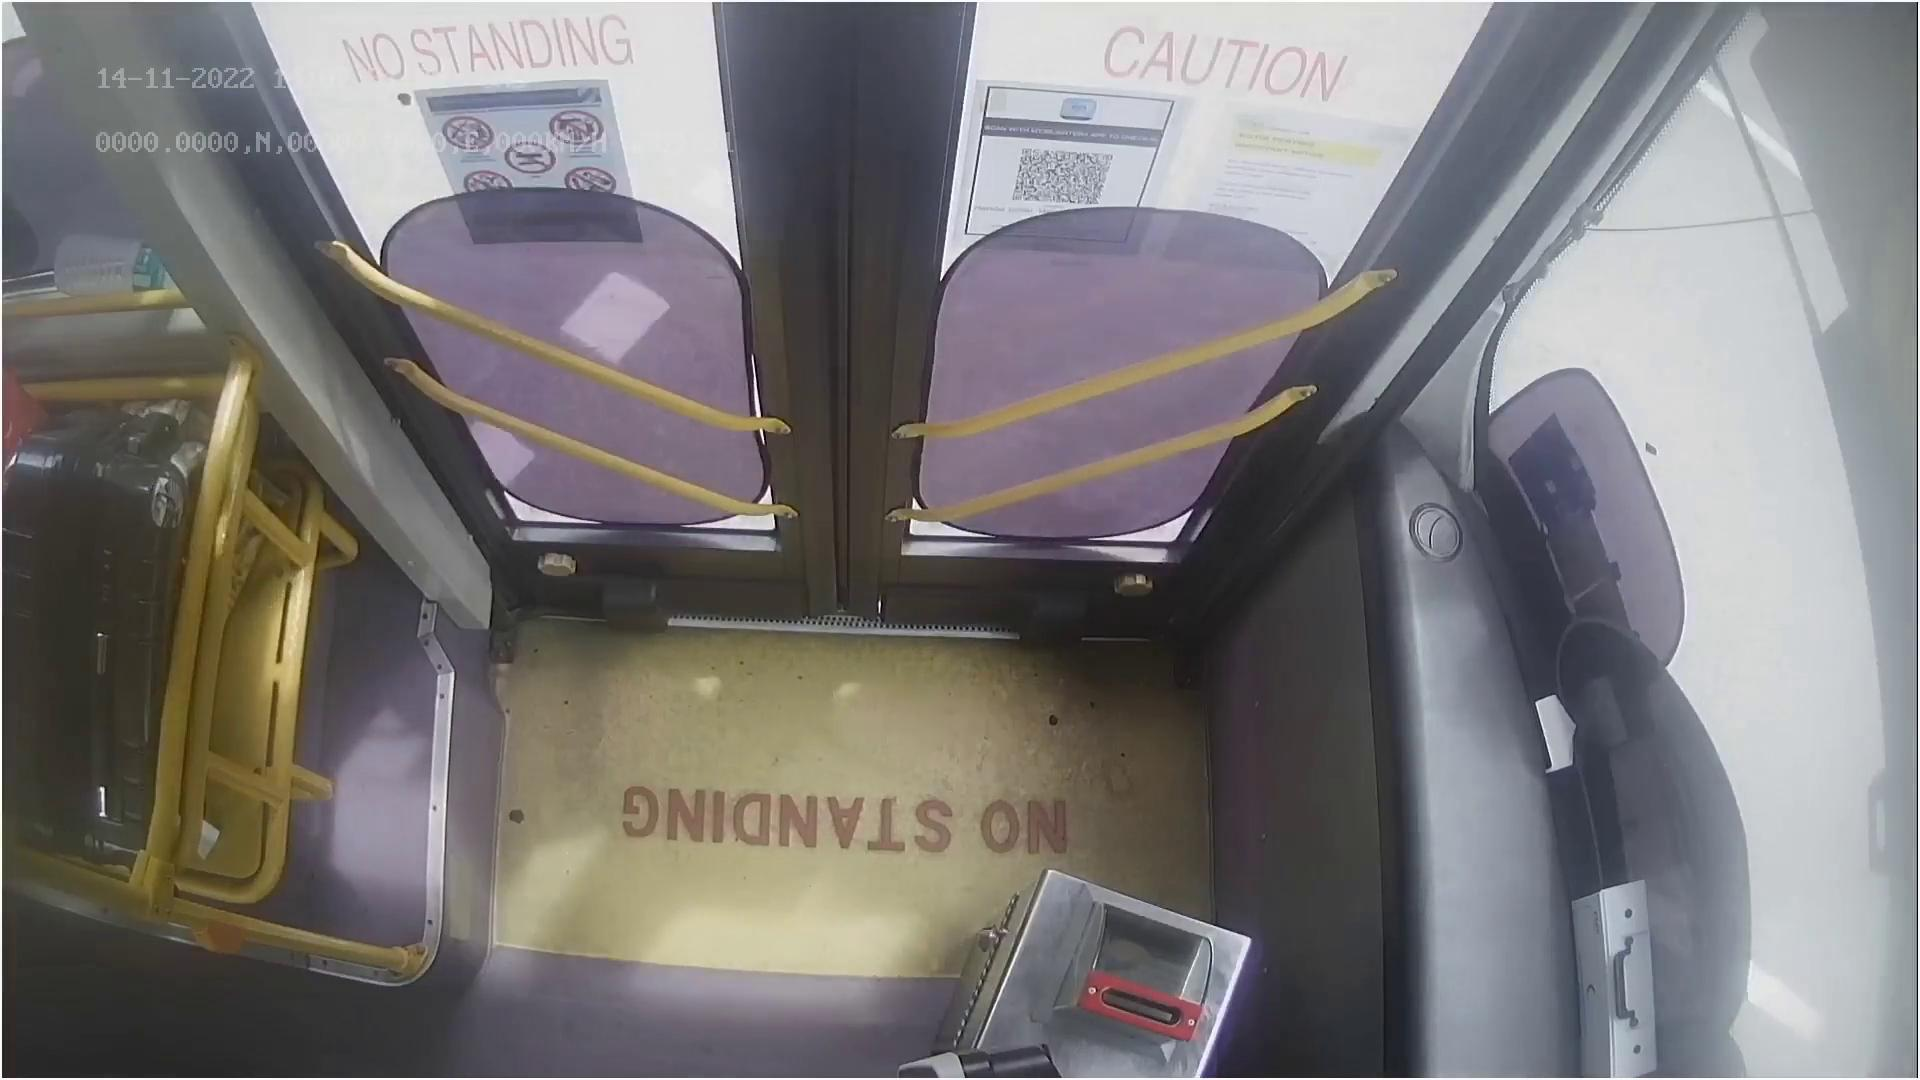close: (284, 0, 1436, 178)
